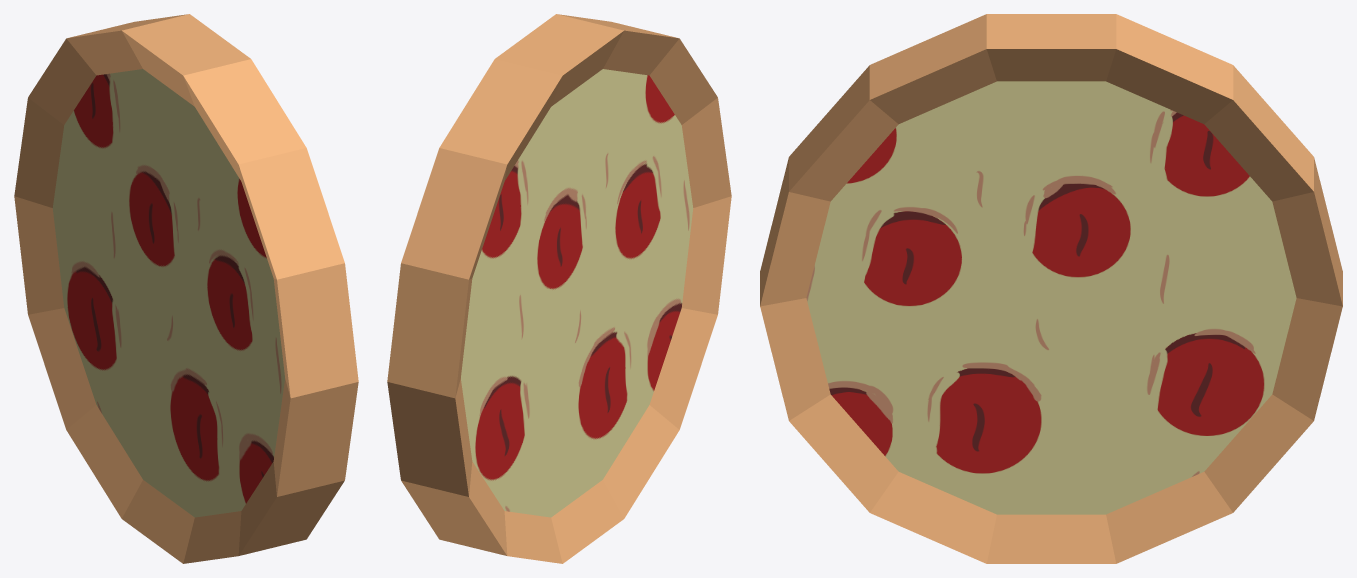
The model's file is prmPizza.fbx.
3 views of the same model, side by side, from view 1: azimuth 30°, elevation 25°; view 2: azimuth 150°, elevation 25°; view 3: azimuth 270°, elevation 25° (orthographic). The views are drawn at different scales.
Visible parts, largest first — view 1: prmPizza; view 2: prmPizza; view 3: prmPizza.
Boxes of the visible parts, x1,y1,x2,y2 form: prmPizza: (14, 14, 358, 563); prmPizza: (387, 14, 731, 563); prmPizza: (760, 14, 1342, 563).
Bounding box in the file's own units: 28.43 × 195 × 200.
Materials: 1 (1 with a texture image).
